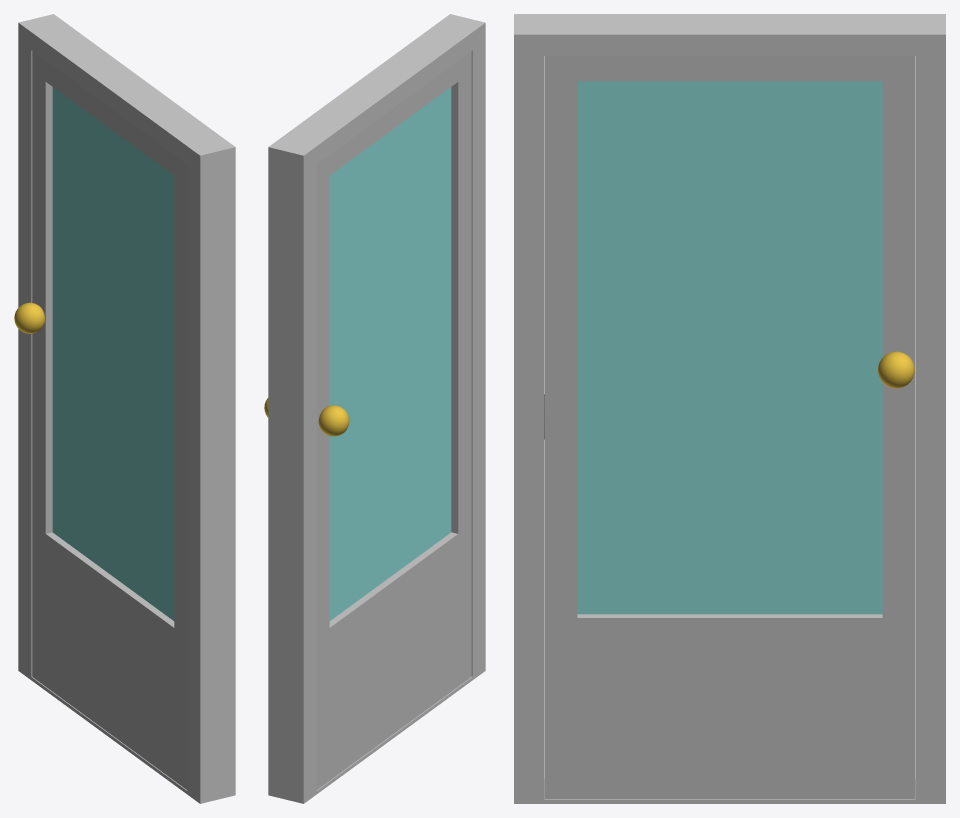
File: Door1.glb
3 renders of one model, left to right at view 1: azimuth 30°, elevation 25°; view 2: azimuth 150°, elevation 25°; view 3: azimuth 270°, elevation 25°, orthographic. The views are drawn at different scales.
Parts seen in each view (by area): view 1: Door-col, DoorFrame, Knobs; view 2: Door-col, DoorFrame, Knobs; view 3: Door-col, DoorFrame, Knob.
Part boxes in pixels (x1,y1,x2,y2): Door-col: (32,51,187,789); DoorFrame: (18,14,235,803); Knobs: (14,302,44,333); Door-col: (316,51,471,789); DoorFrame: (268,14,485,803); Knobs: (318,405,349,436); Door-col: (545,56,914,799); DoorFrame: (514,14,945,803); Knob: (878,351,914,388).
Bounding box in the file's own units: 1.2 × 9.19 × 4.67.
